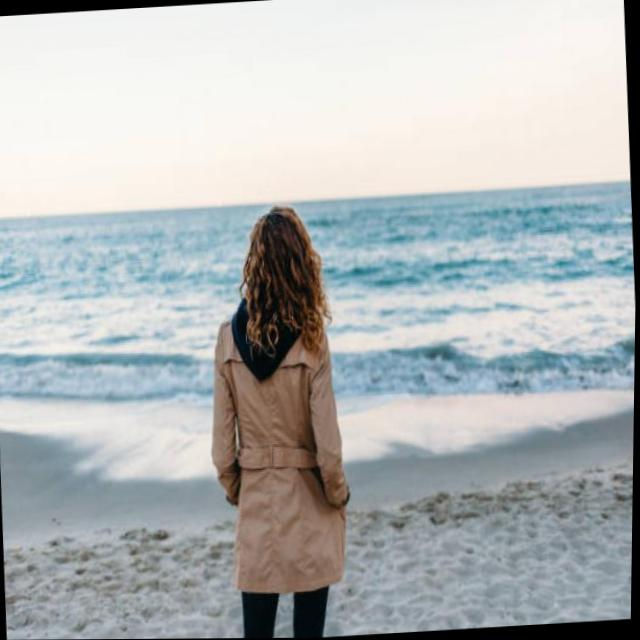no helmet: (224, 201, 331, 342)
